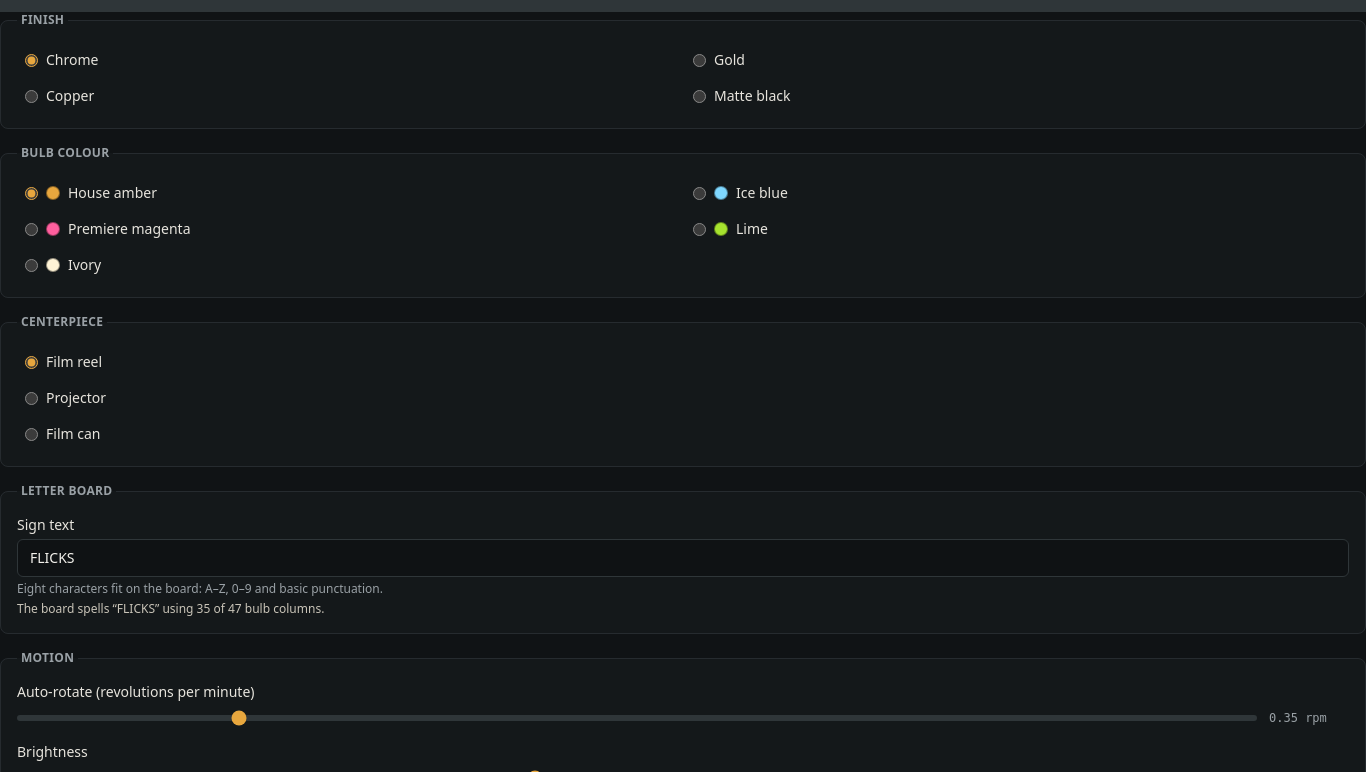
Test: ConfigPanel › says what the board will actually spell
Replace the text in the field labelled "Sign text" with "sold#out" at (683, 558), box [17, 539, 1349, 577]
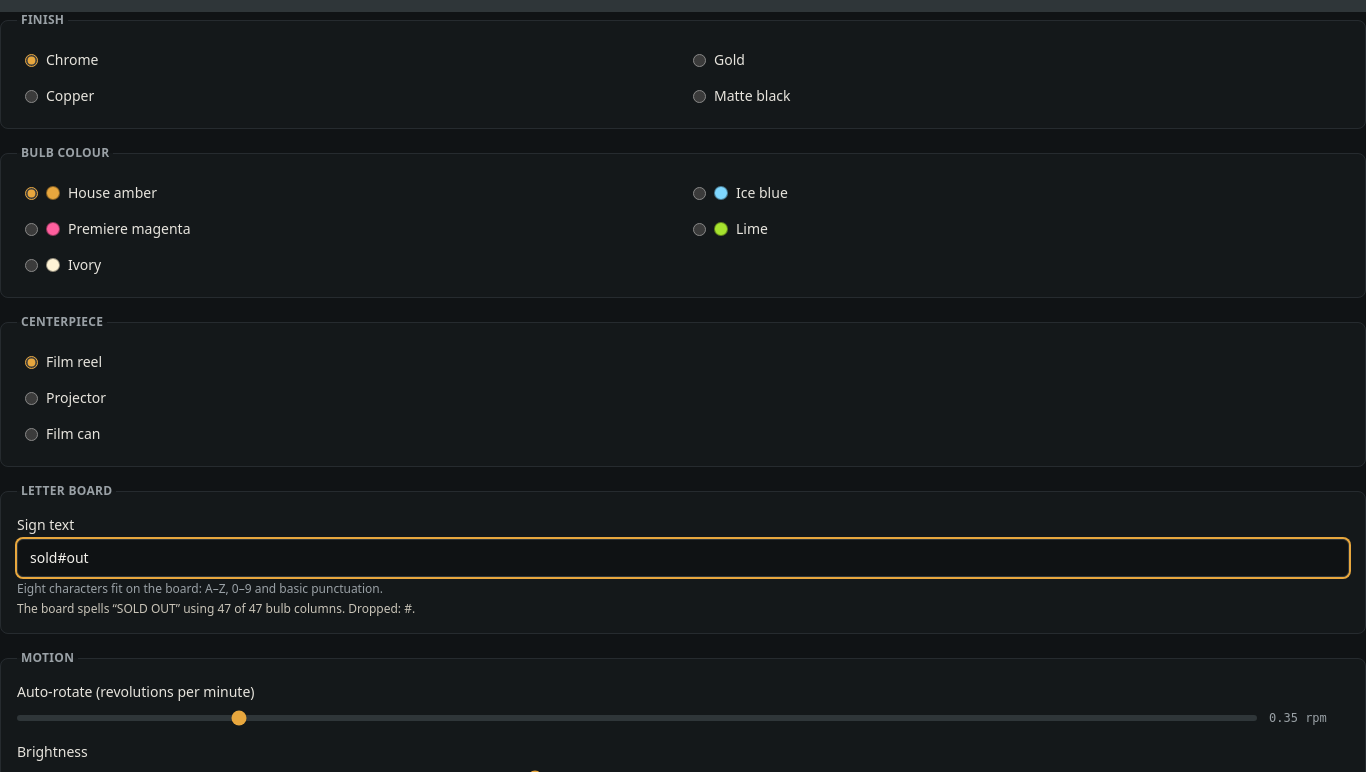
Check: the message shows "The board spells “SOLD OUT”", box [17, 600, 345, 617]
Check: the message shows "Dropped: #", box [345, 600, 415, 617]
Check: the message shows "of 47 bulb columns", box [17, 600, 345, 617]
